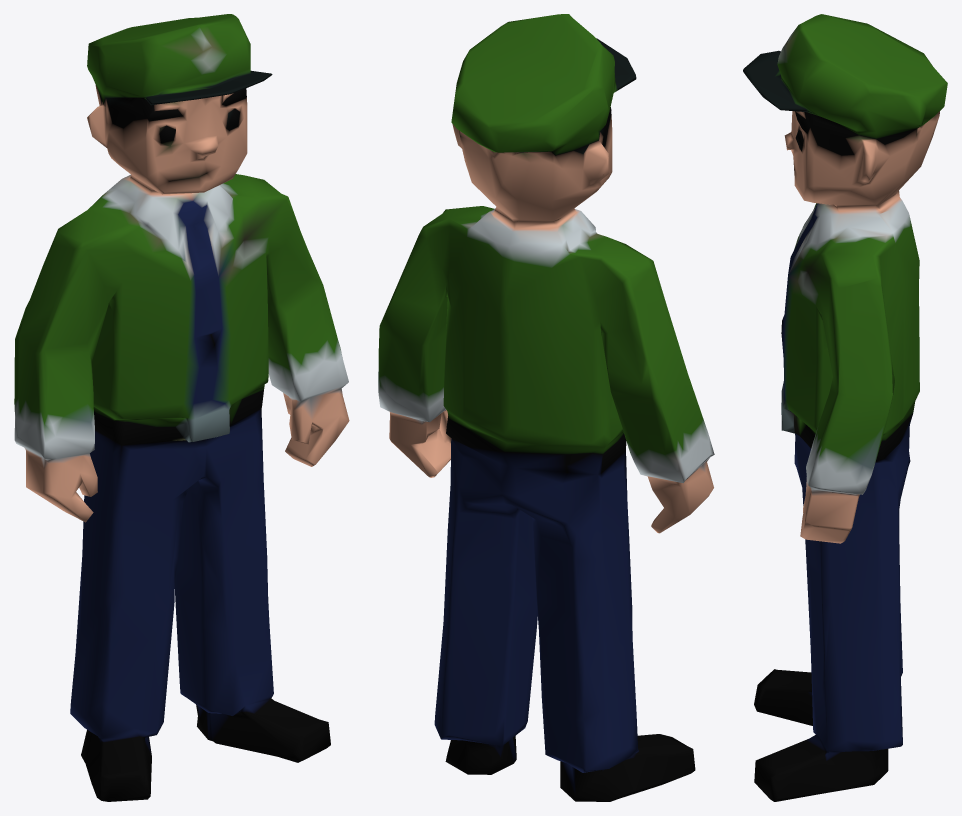
The model's file is gen3d-mailman-lod0.glb.
3 renders of one model, left to right at view 1: azimuth 30°, elevation 25°; view 2: azimuth 150°, elevation 25°; view 3: azimuth 270°, elevation 25°, orthographic. The views are drawn at different scales.
Parts seen in each view (by area): view 1: part_0; view 2: part_0; view 3: part_0.
Boxes of the visible parts, box(x1,y1,x2,y2) form: part_0: box(14, 14, 349, 801); part_0: box(378, 14, 714, 801); part_0: box(743, 14, 947, 801).
Size of the model in its own units: 0.4329 by 0.9999 by 0.2567.
